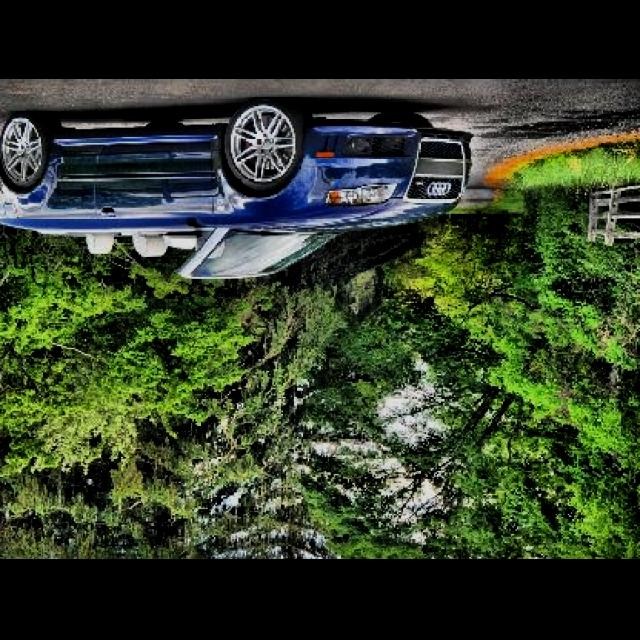blue: (0, 98, 472, 280)
